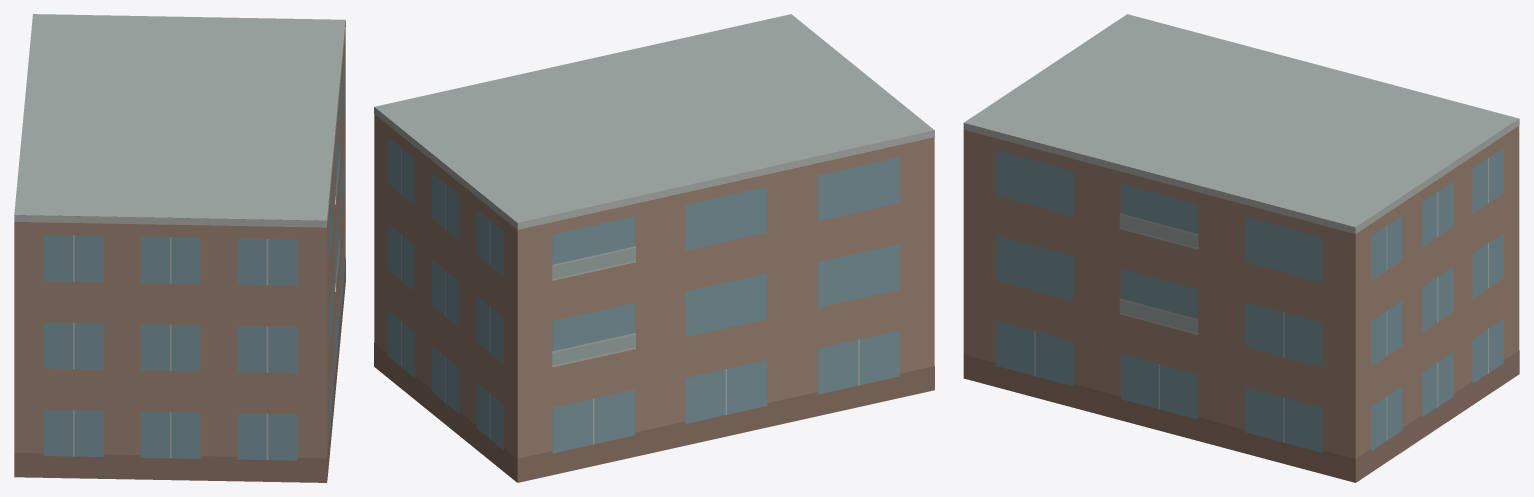
The model's file is survey-upis-32771667.glb.
3 views of the same model, side by side, from view 1: azimuth 30°, elevation 25°; view 2: azimuth 150°, elevation 25°; view 3: azimuth 270°, elevation 25° (orthographic). The views are drawn at different scales.
Visible parts, largest first — view 1: survey-upis-32771667.tmp; view 2: survey-upis-32771667.tmp; view 3: survey-upis-32771667.tmp.
Part boxes in pixels (x1,y1,x2,y2): survey-upis-32771667.tmp: (14, 14, 345, 482); survey-upis-32771667.tmp: (374, 14, 934, 482); survey-upis-32771667.tmp: (963, 14, 1519, 482).
Size of the model in its own units: 16.39 by 9.15 by 18.04.
